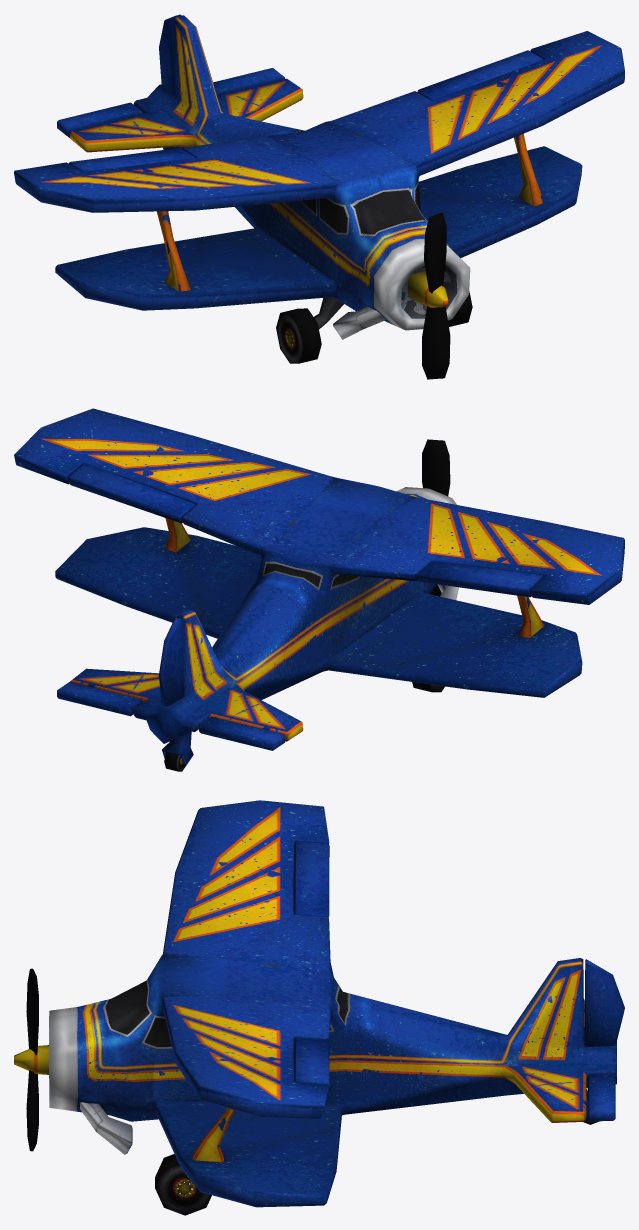
File: air.fbx
3 renders of one model, top to bottom at view 1: azimuth 30°, elevation 25°; view 2: azimuth 150°, elevation 25°; view 3: azimuth 270°, elevation 25°, orthographic. The views are drawn at different scales.
Parts seen in each view (by area): view 1: plane1; view 2: plane1; view 3: plane1.
Part boxes in pixels (x1=…): plane1: x1=14, y1=14, x2=624, y2=379; plane1: x1=14, y1=408, x2=624, y2=771; plane1: x1=14, y1=800, x2=624, y2=1215.
Bounding box in the file's own units: 269 × 91.06 × 229.
